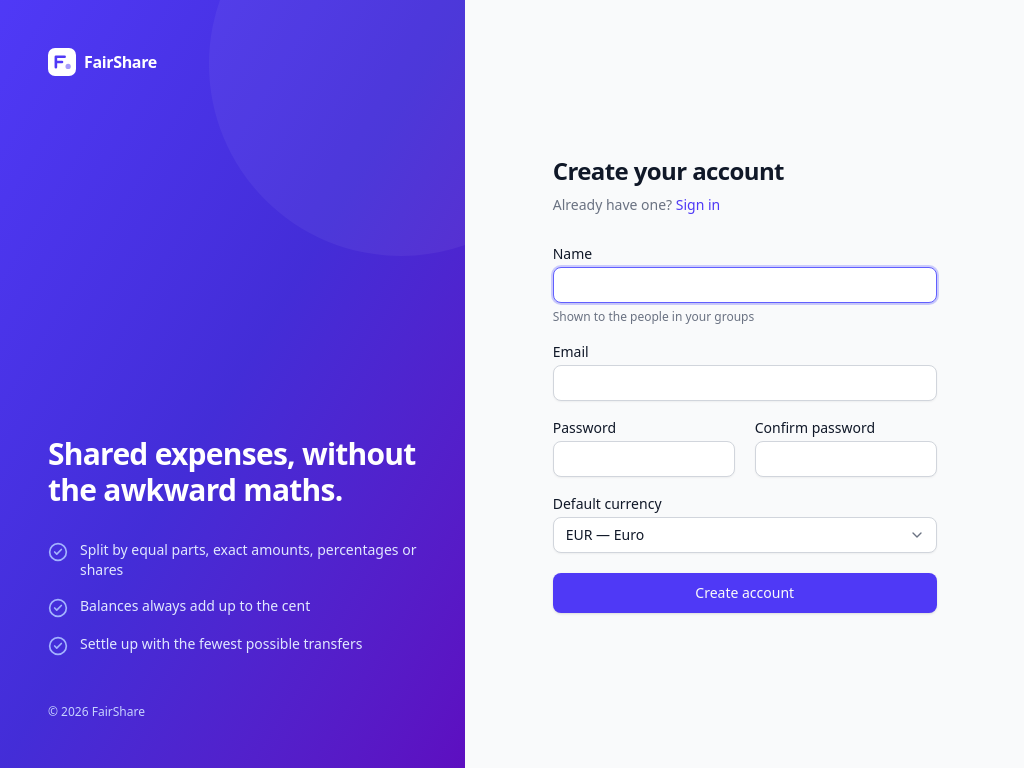
Scenario: RegisterPage › checks that the passwords match
In the field labelled "Name": (745, 285) x1=553 y1=267 x2=937 y2=303, type "Anna Smith"
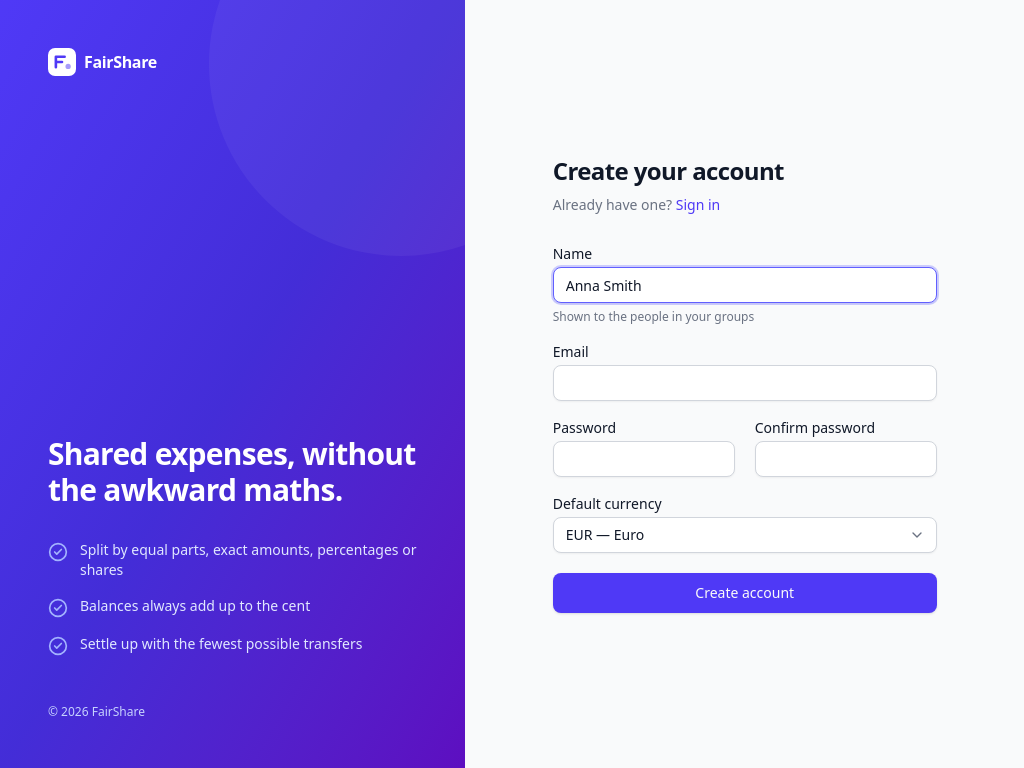
In the field labelled "Email": (745, 383) x1=553 y1=365 x2=937 y2=401, type "anna@example.com"
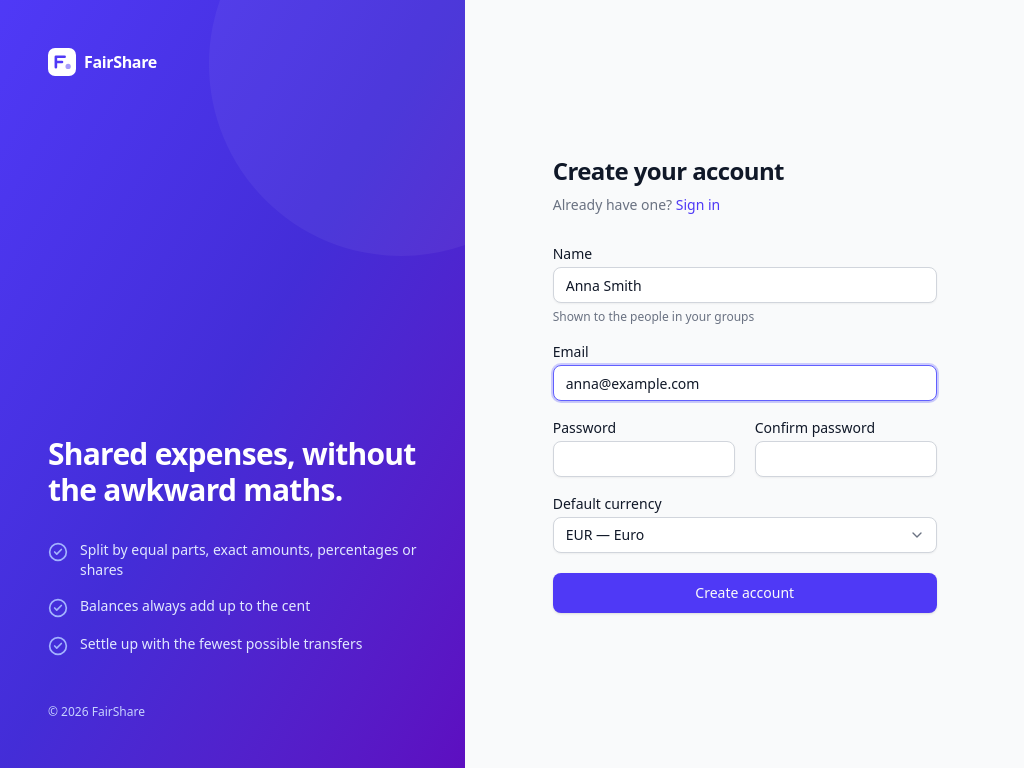
In the password field labelled "Password": (644, 459) x1=553 y1=441 x2=735 y2=477, type "password123"
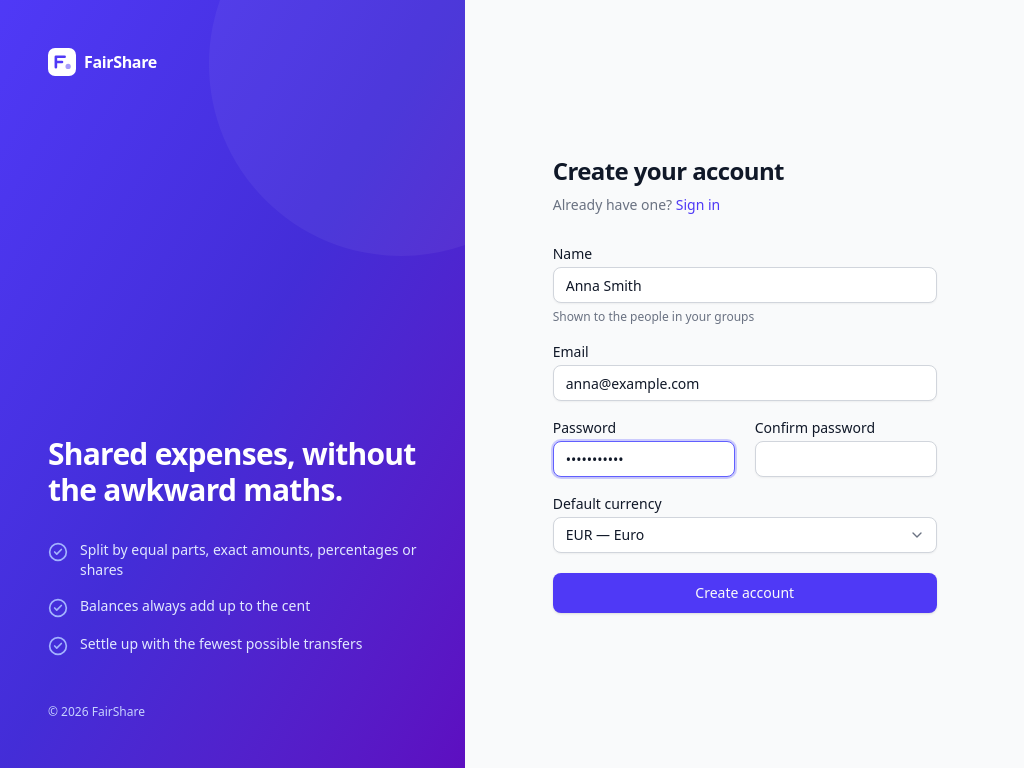
In the password field labelled "Confirm password": (846, 459) x1=755 y1=441 x2=937 y2=477, type "something-else"
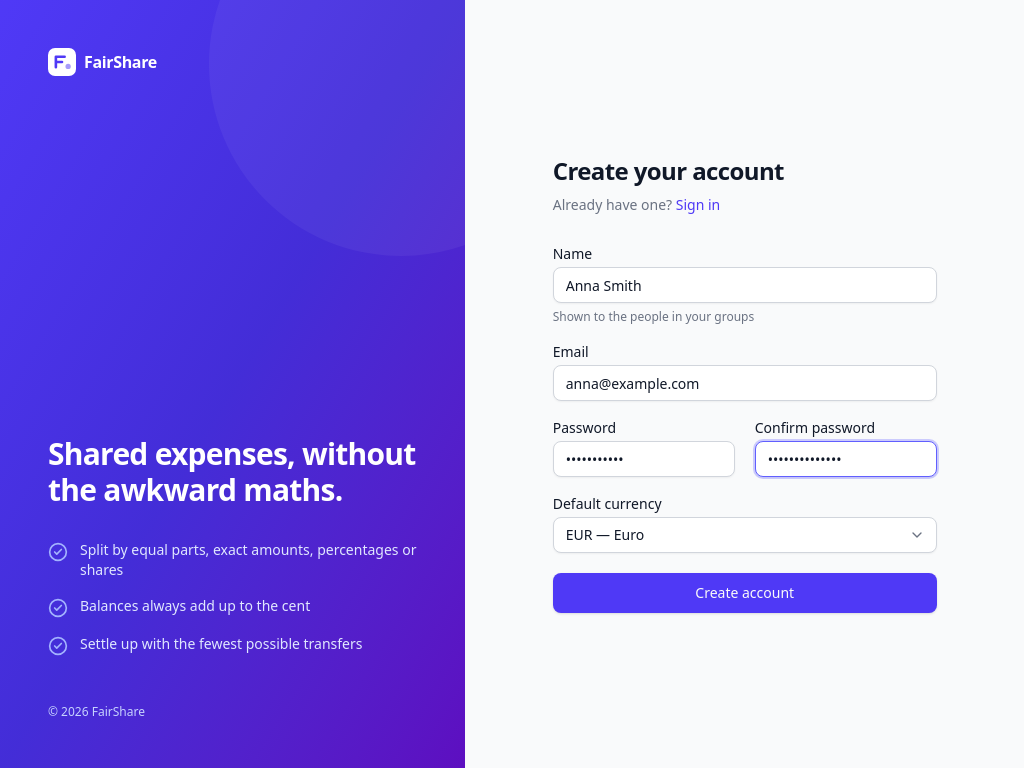
Click the button "Create account": (745, 593) x1=553 y1=573 x2=937 y2=613
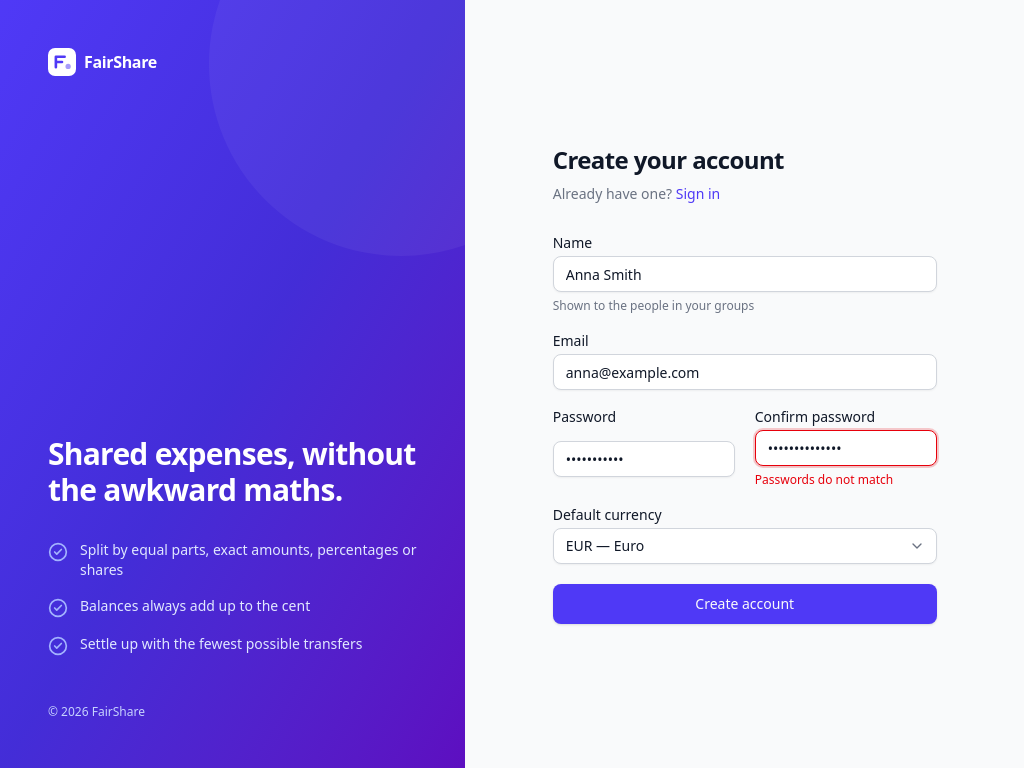
Check: the text "Passwords do not match" is shown, box x1=755 y1=471 x2=893 y2=488
